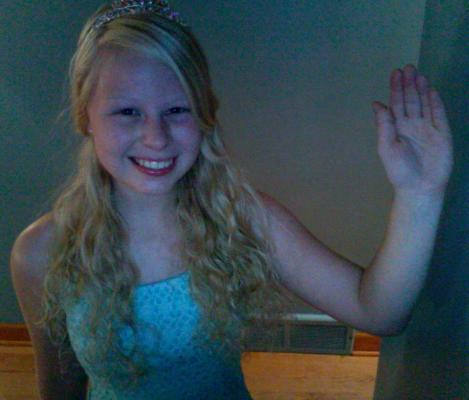person: (12, 3, 457, 400)
